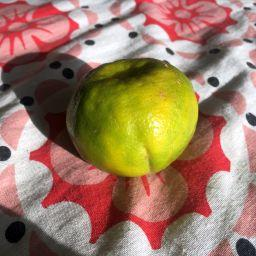orange: (65, 57, 200, 178)
